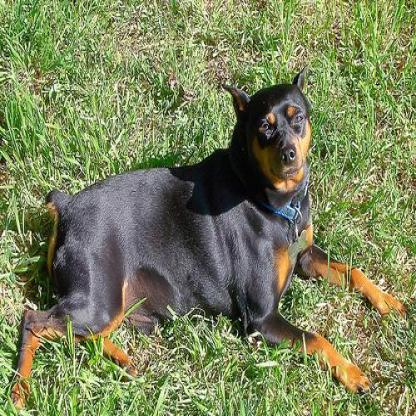miniature_pinscher: (6, 63, 403, 403)
